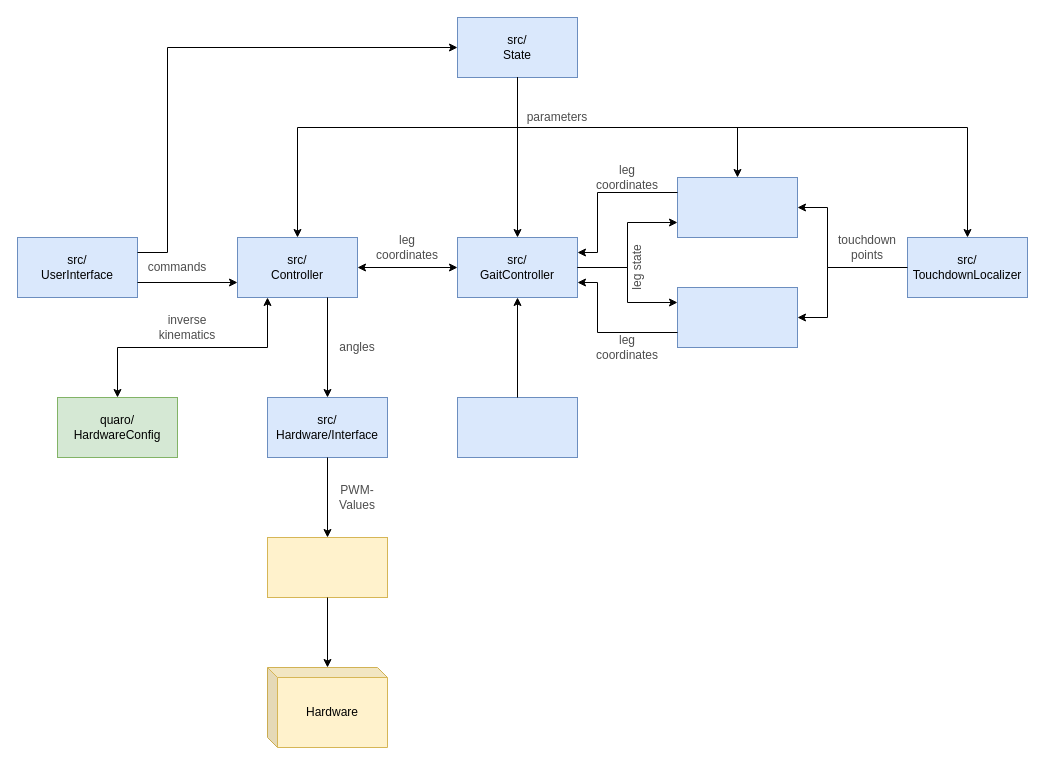
Image size: 1045x765. Some labels were removed from this diagram. The box of each missing label's shape, as (x1, y1, x2, y2) in pixels:
PCA9685: (266, 536, 388, 598)
src/ Stabilizer: (456, 396, 578, 458)
src/ SupportController: (676, 286, 798, 348)
src/ SwingController: (676, 176, 798, 238)
